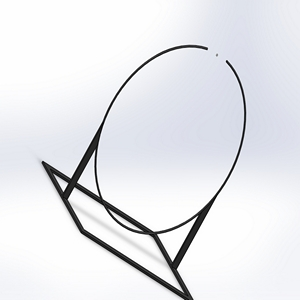circle: (40, 42, 247, 300)
